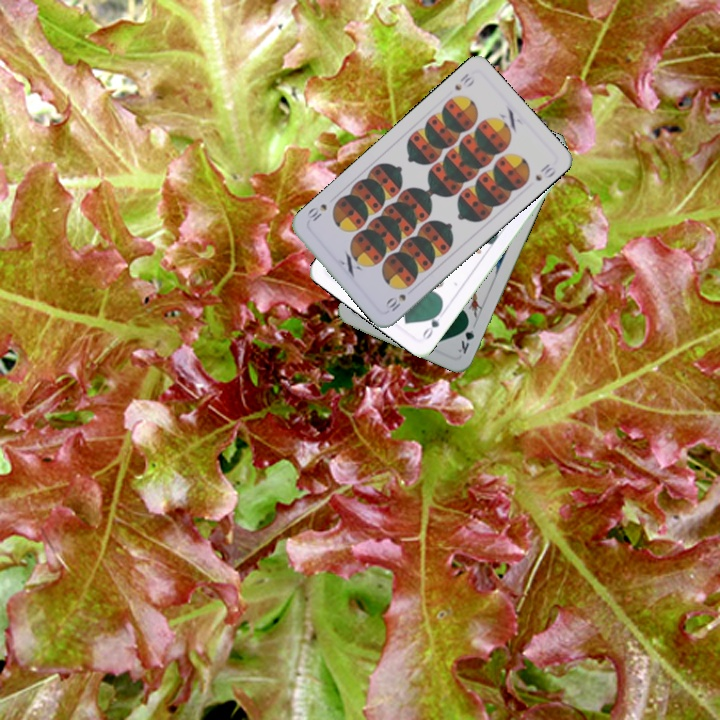GK: (454, 317, 477, 357)
GO: (418, 305, 444, 342)
S10: (383, 290, 409, 314), (450, 69, 473, 93)
